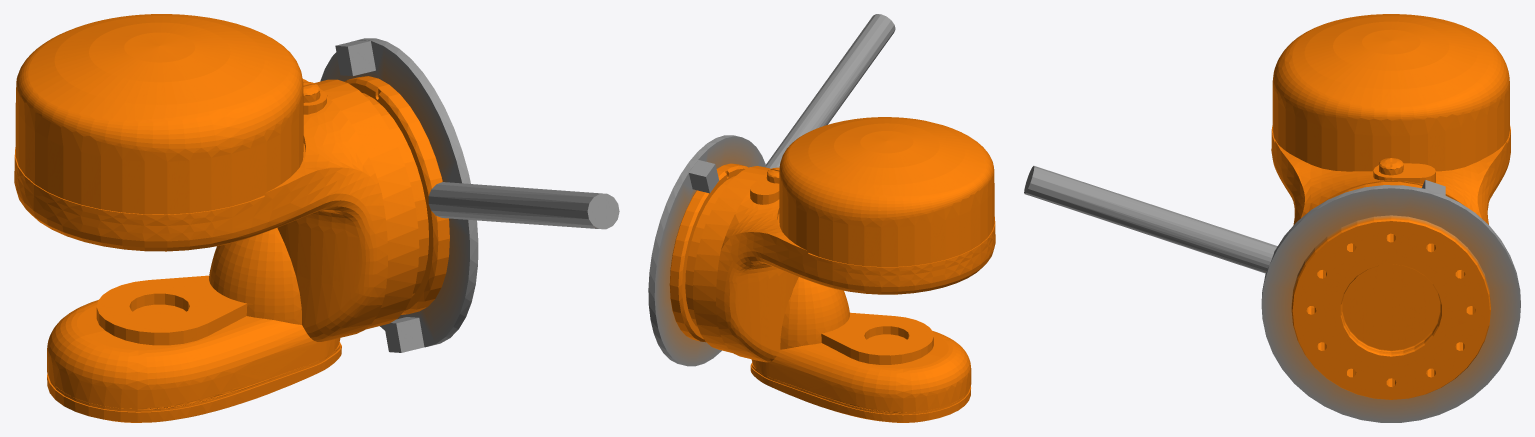
The picture shows the model from 3 angles, left to right: view 1: azimuth 30°, elevation 25°; view 2: azimuth 150°, elevation 25°; view 3: azimuth 270°, elevation 25°; orthographic projection. The views are drawn at different scales.
Parts seen in each view (by area): view 1: node; view 2: node; view 3: node.
Part boxes in pixels (x1=…): node: x1=14, y1=14, x2=619, y2=422; node: x1=648, y1=14, x2=995, y2=422; node: x1=1024, y1=14, x2=1520, y2=422.
Bounding box in the file's own units: 14.18 × 12.79 × 19.61.
1 material, 1 textured.
